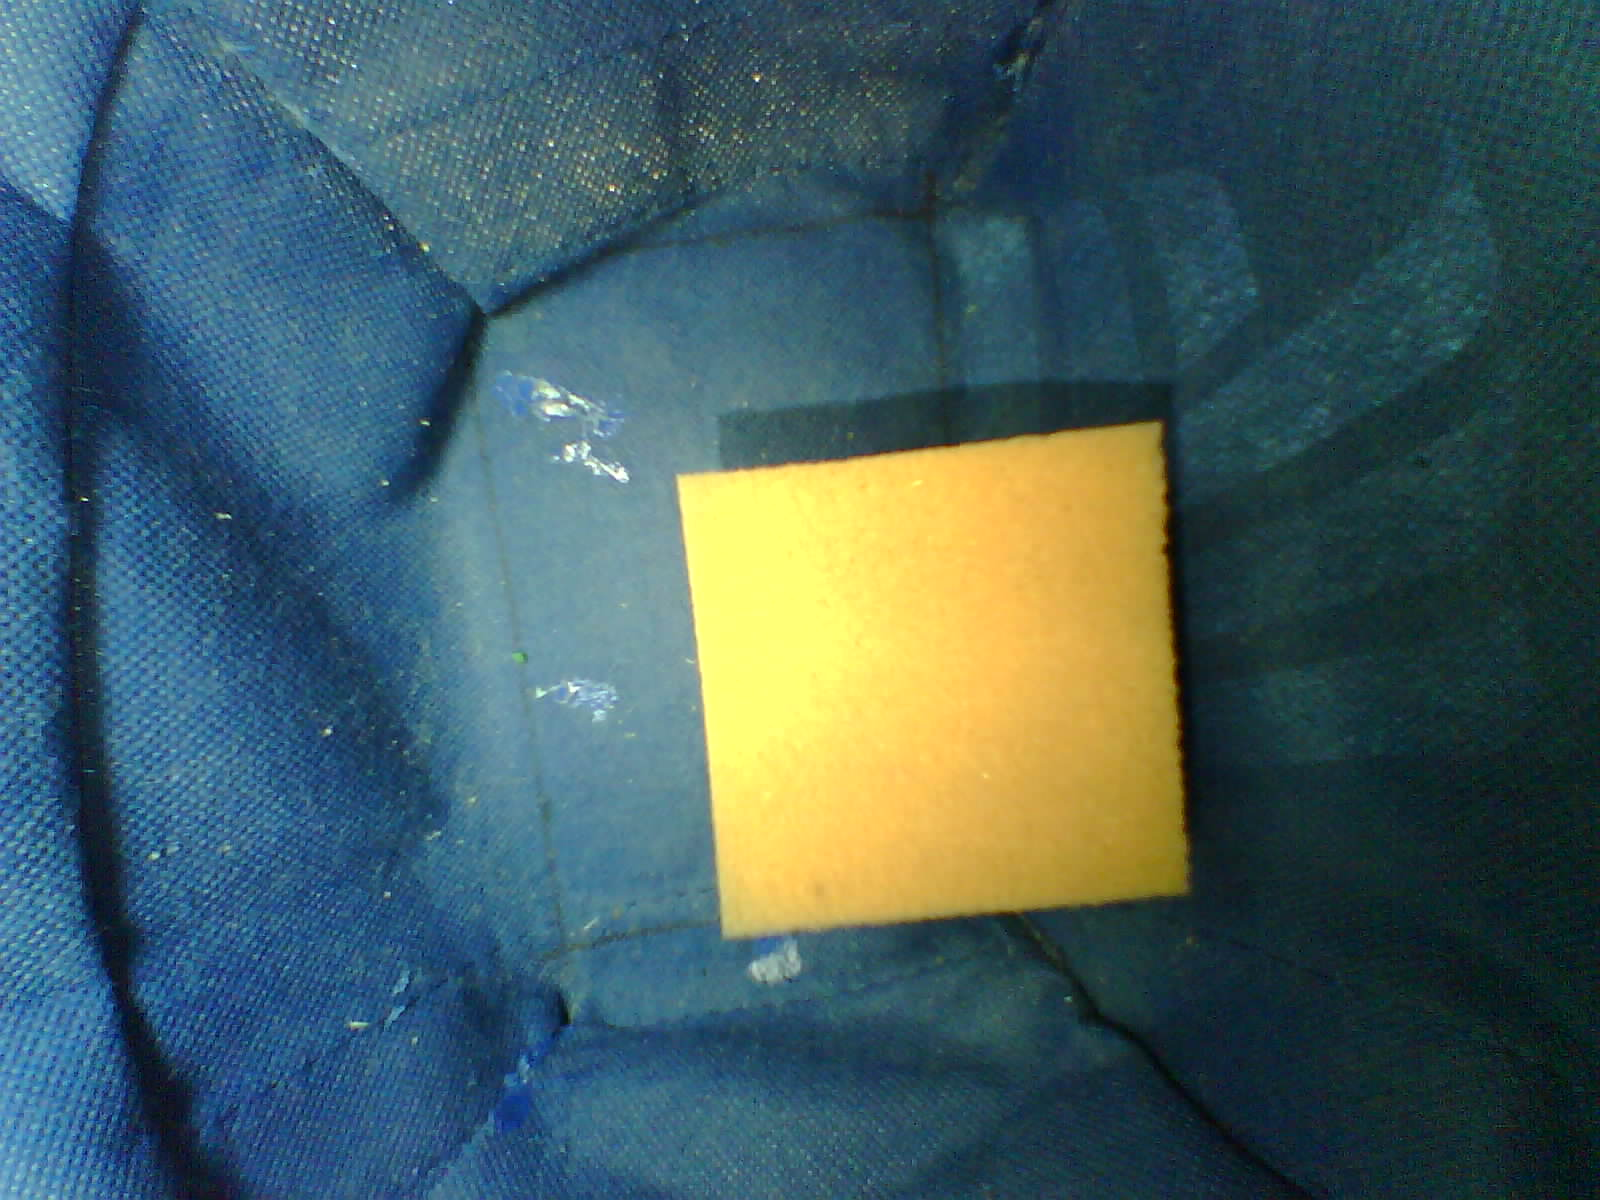cube-soft: (646, 393, 1223, 974)
